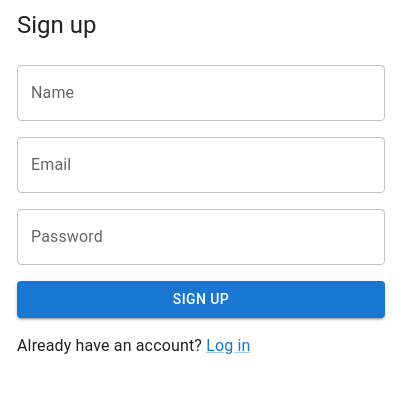
SignupPage validation › rejects a password shorter than 8 characters
Type "Alice" into the field labelled "Name".
click(201, 93); type("Alice")  # box 17,65 -> 385,121
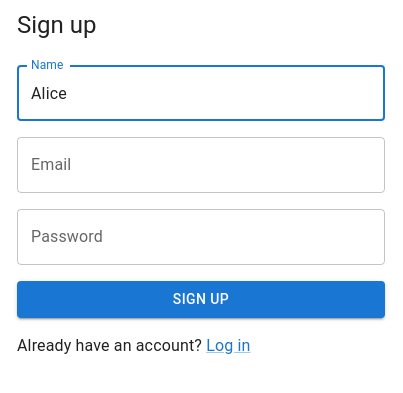
Type "alice@example.com" into the field labelled "Email".
click(201, 165); type("alice@example.com")  # box 17,137 -> 385,193
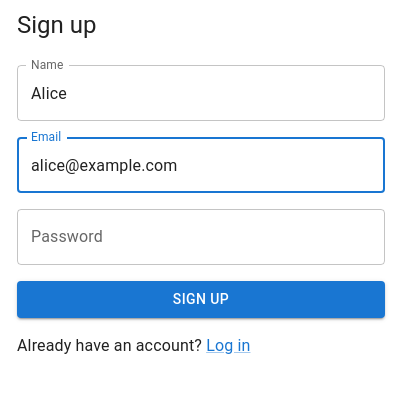
Type "short" into the password field labelled "Password".
click(201, 237); type("short")  # box 17,209 -> 385,265
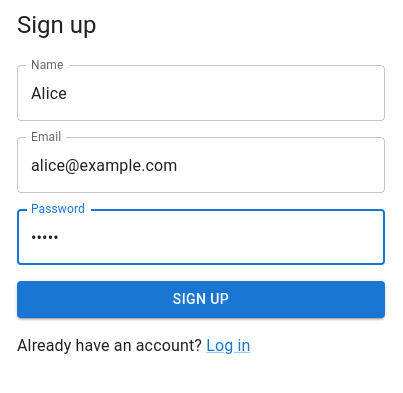
Click the button "Sign up".
click(201, 299)  # box 17,281 -> 385,318
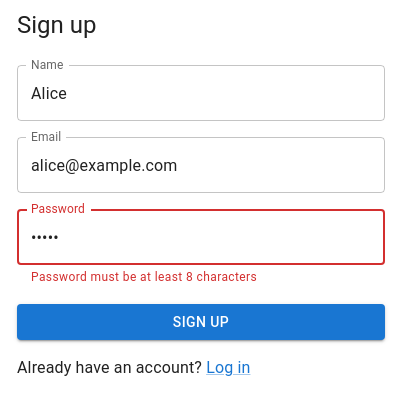
Result: the text "Password must be at least 8 characters" is shown at 31,270 -> 257,284
